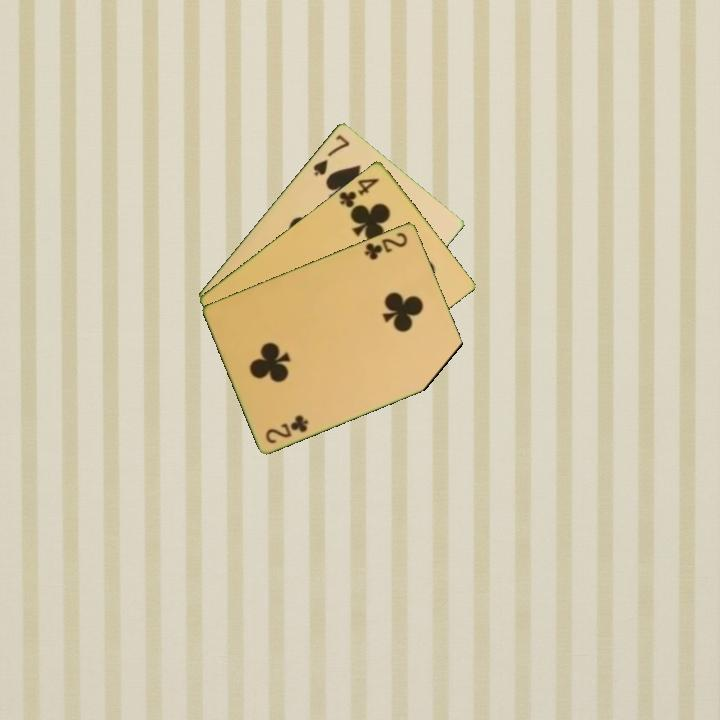2c: (262, 411, 312, 446), (361, 228, 410, 263)
4c: (335, 174, 382, 213)
7s: (309, 131, 352, 179)
